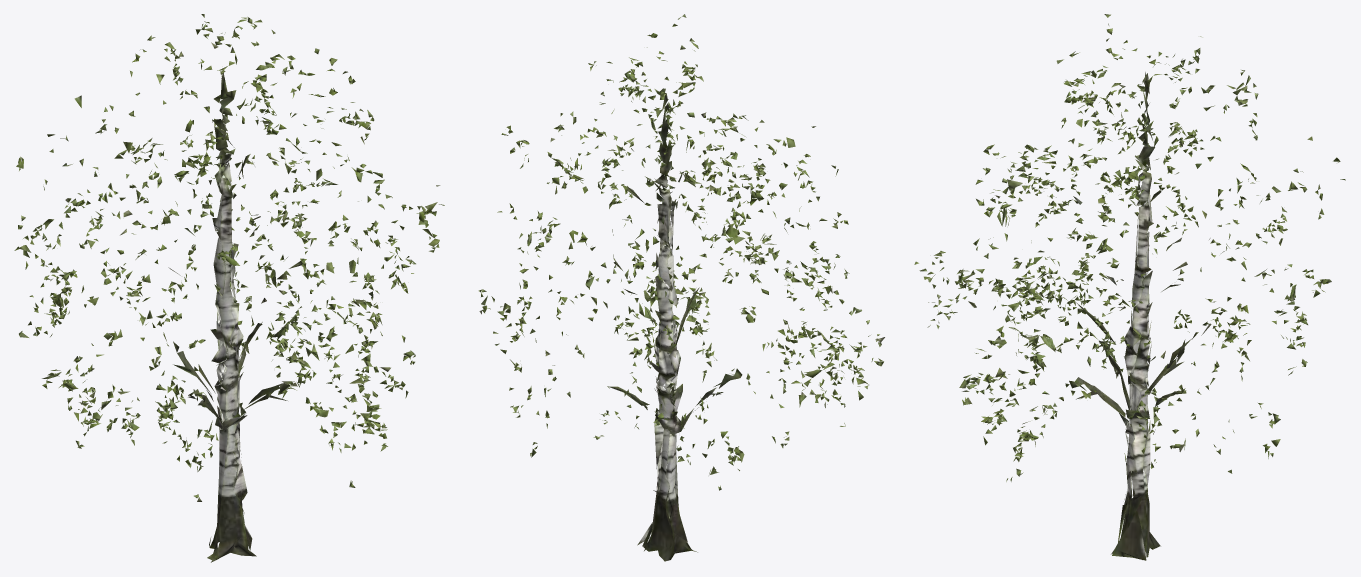
File: betula_prateada_jovem.glb
3 views of the same model, side by side, from view 1: azimuth 30°, elevation 25°; view 2: azimuth 150°, elevation 25°; view 3: azimuth 270°, elevation 25° (orthographic). The views are drawn at different scales.
Visible parts, largest first — view 1: geometry_0; view 2: geometry_0; view 3: geometry_0.
Part boxes in pixels (x1,y1,x2,y2): geometry_0: [14, 14, 444, 562]; geometry_0: [478, 14, 884, 561]; geometry_0: [914, 14, 1345, 560].
Size of the model in its own units: 0.7339 by 1 by 0.7276.
1 material, 1 textured.
